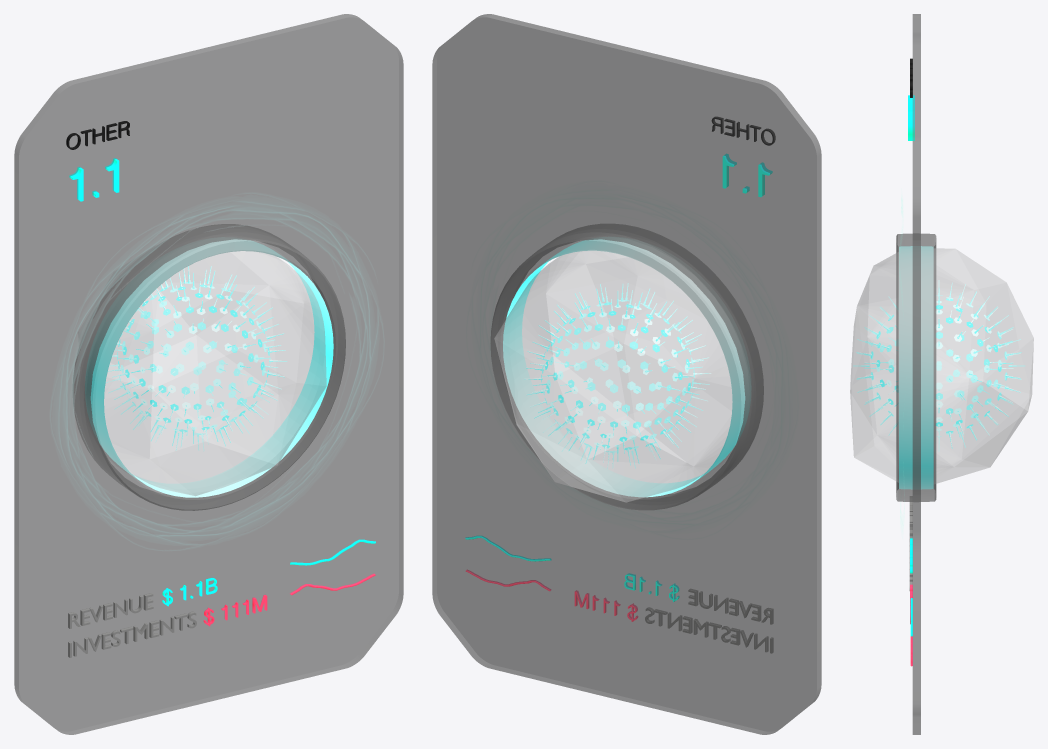
3 views of the same model, side by side, from view 1: azimuth 30°, elevation 25°; view 2: azimuth 150°, elevation 25°; view 3: azimuth 270°, elevation 25° (orthographic). The views are drawn at different scales.
Visible parts, largest first — view 1: baseGreen.007, Glass.009, Corner.007, neon-corner.009, baseCorner.007, neon-sphereBase.007, Text.056, neon-sphere.010, neon-rimGreen.007, Text.055, Text.057, Text.058; view 2: baseGreen.007, Glass.009, Corner.007, neon-corner.009, baseCorner.007, neon-sphere.010, Text.056, Text.055; view 3: Glass.009, Corner.007, neon-corner.009, baseCorner.007, neon-sphere.010, neon-sphereBase.007.
Part boxes in pixels (x1=…): baseGreen.007: x1=14, y1=14, x2=403, y2=734; Glass.009: x1=104, y1=251, x2=326, y2=495; Corner.007: x1=74, y1=224, x2=345, y2=510; neon-corner.009: x1=85, y1=237, x2=333, y2=497; baseCorner.007: x1=14, y1=14, x2=403, y2=734; neon-sphereBase.007: x1=117, y1=282, x2=270, y2=434; Text.056: x1=68, y1=611, x2=196, y2=657; neon-sphere.010: x1=112, y1=266, x2=278, y2=449; neon-rimGreen.007: x1=66, y1=206, x2=370, y2=536; Text.055: x1=68, y1=593, x2=153, y2=628; Text.057: x1=69, y1=158, x2=119, y2=201; Text.058: x1=66, y1=121, x2=129, y2=149; baseGreen.007: x1=432, y1=14, x2=821, y2=734; Glass.009: x1=494, y1=251, x2=732, y2=502; Corner.007: x1=490, y1=224, x2=763, y2=510; neon-corner.009: x1=503, y1=237, x2=750, y2=497; baseCorner.007: x1=432, y1=14, x2=821, y2=734; neon-sphere.010: x1=524, y1=283, x2=711, y2=469; Text.056: x1=645, y1=607, x2=773, y2=653; Text.055: x1=688, y1=589, x2=773, y2=624; Glass.009: x1=850, y1=248, x2=1033, y2=483; Corner.007: x1=896, y1=233, x2=936, y2=501; neon-corner.009: x1=899, y1=246, x2=933, y2=489; baseCorner.007: x1=912, y1=14, x2=920, y2=734; neon-sphere.010: x1=853, y1=280, x2=1024, y2=451; neon-sphereBase.007: x1=870, y1=295, x2=1007, y2=436.
Bounding box in the file's own units: 1.47 × 2.38 × 0.666.
8 materials, 1 textured.
